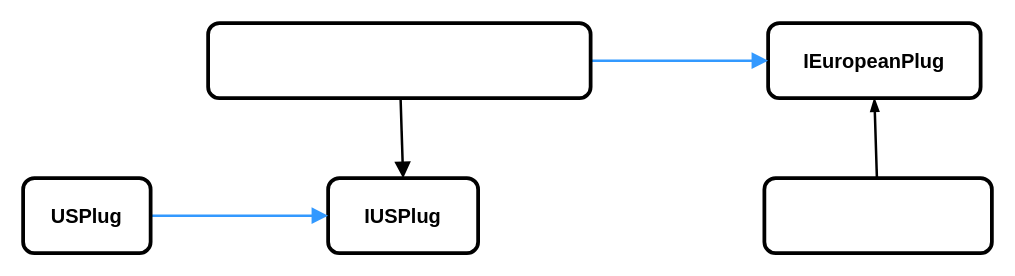
This 1015x276 diagram has some shape labels left out. Each missing label, with the centre of its shape:
EuropeanSocket: the point at 877,215
USPlugToEuropeanPlugAdapter: the point at 399,60
